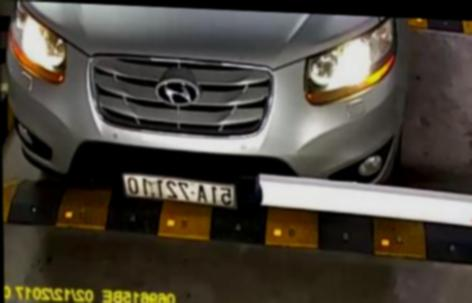License_Plate: (121, 169, 238, 211)
